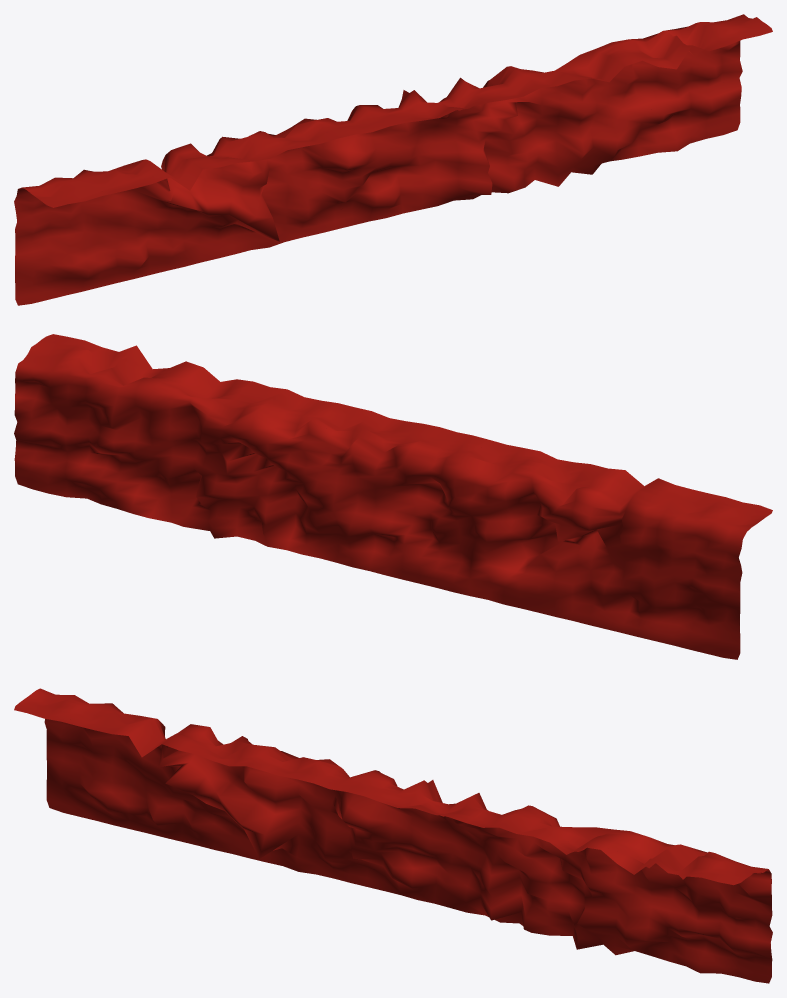
The model's file is hellfire_wall_terrain.fbx.
3 renders of one model, top to bottom at view 1: azimuth 30°, elevation 25°; view 2: azimuth 150°, elevation 25°; view 3: azimuth 330°, elevation 25°, orthographic.
Parts seen in each view (by area): view 1: WallLP; view 2: WallLP; view 3: WallLP.
Boxes of the visible parts, box(x1,y1,x2,y2) form: WallLP: box(14, 14, 772, 305); WallLP: box(14, 334, 772, 659); WallLP: box(14, 688, 772, 983).
Size of the model in its own units: 78.39 by 8.83 by 14.3.
